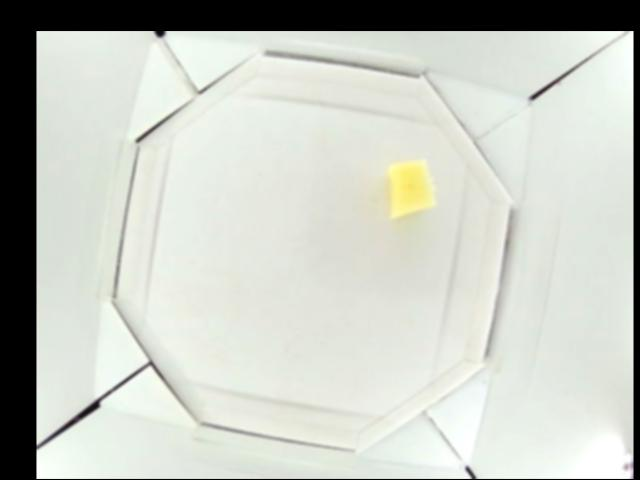Potato: (388, 160, 434, 218)
